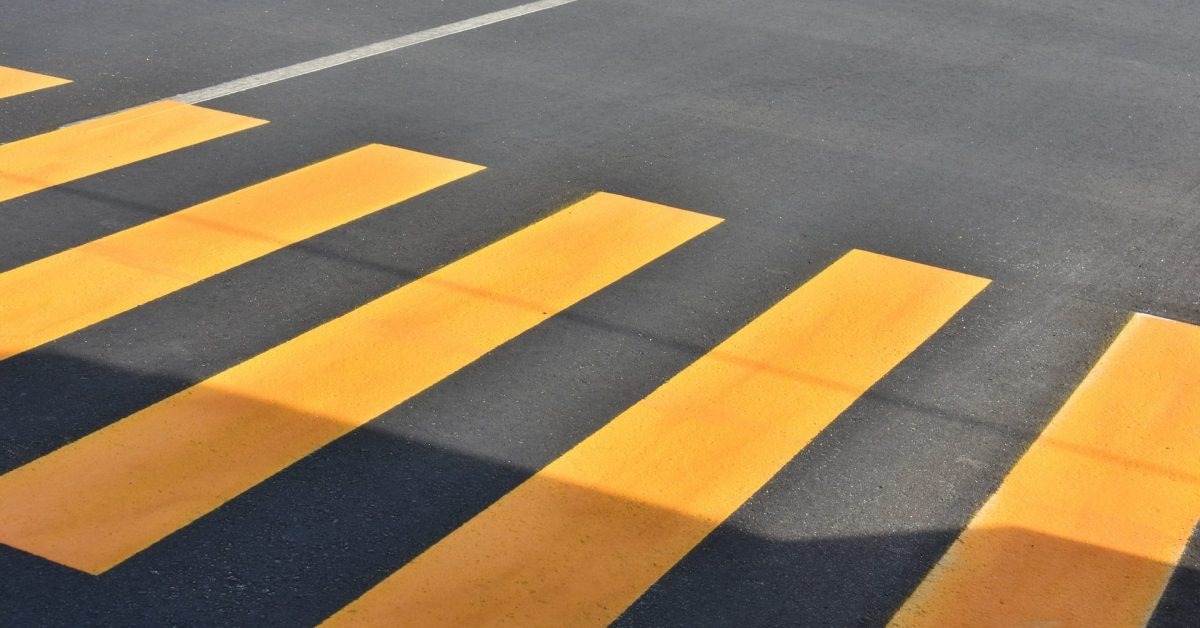Crosswalk: (6, 53, 1200, 628)
